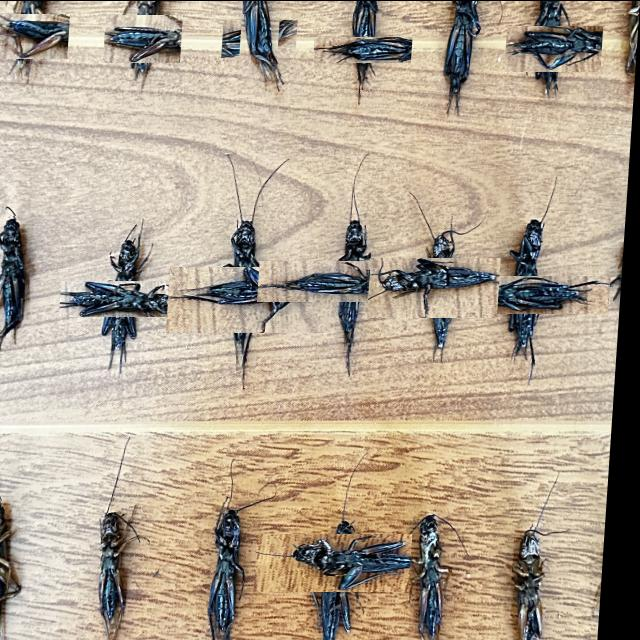no_egg: (172, 266, 336, 333), (264, 533, 420, 590), (372, 257, 504, 317), (263, 260, 440, 302), (217, 501, 265, 640), (445, 275, 614, 313), (419, 514, 459, 640), (506, 25, 603, 71), (65, 280, 185, 317), (0, 215, 32, 352), (444, 0, 483, 106), (0, 500, 28, 635), (521, 526, 554, 640), (107, 14, 183, 62), (0, 13, 70, 58), (109, 512, 133, 640), (222, 19, 298, 57), (315, 36, 413, 63), (244, 0, 278, 76), (623, 1, 640, 82)
